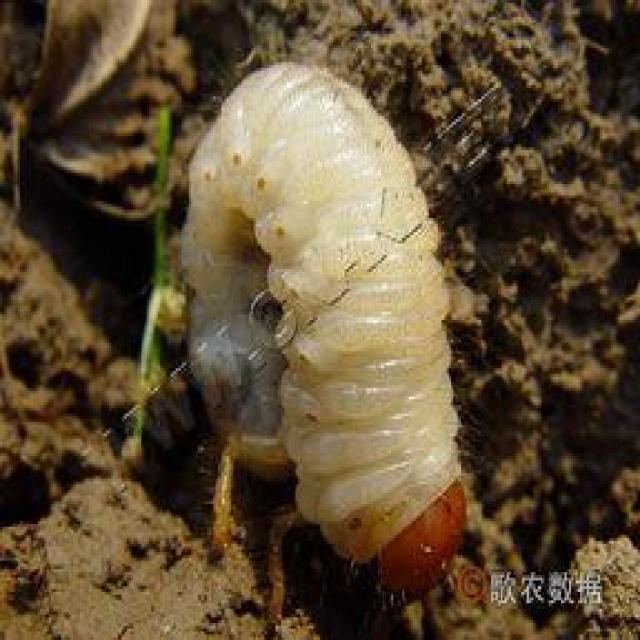Grub-Adult-: (165, 47, 488, 602)
